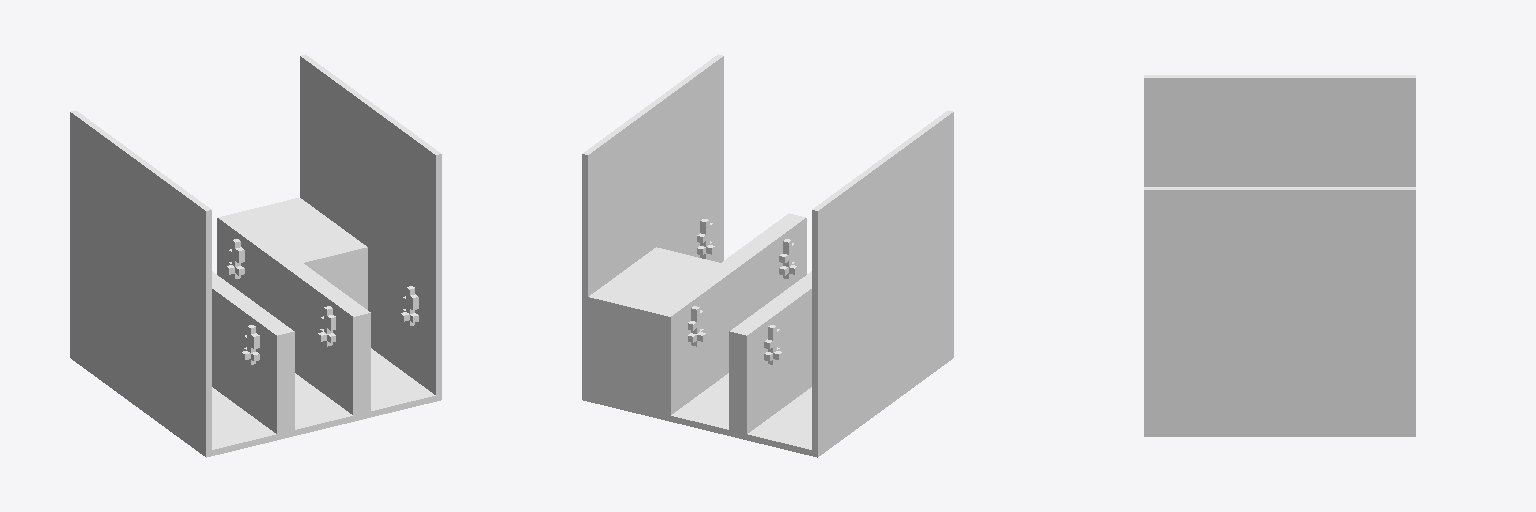
Rendered from corredor3.obj.
3 renders of one model, left to right at view 1: azimuth 30°, elevation 25°; view 2: azimuth 150°, elevation 25°; view 3: azimuth 270°, elevation 25°, orthographic.
Visible parts, largest first — view 1: corredor3; view 2: corredor3; view 3: corredor3.
Boxes of the visible parts, box(x1,y1,x2,y2) form: corredor3: box(70, 54, 441, 457); corredor3: box(582, 54, 953, 457); corredor3: box(1144, 75, 1415, 436).
Bounding box in the file's own units: 40 × 40 × 40.